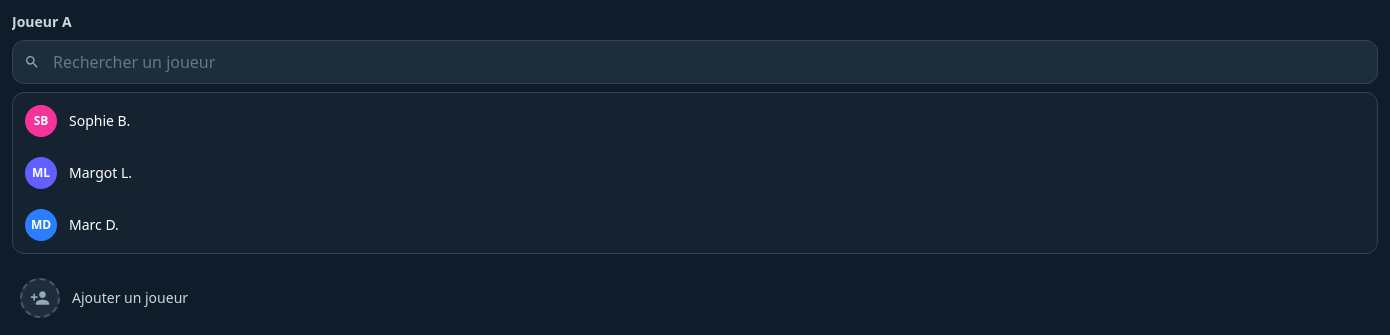
Test: PlayerPicker › ordering › keeps the recency order while searching
Step 1. Type "mar" into the field named "Rechercher Joueur A" → (695, 62), box [12, 40, 1378, 84]
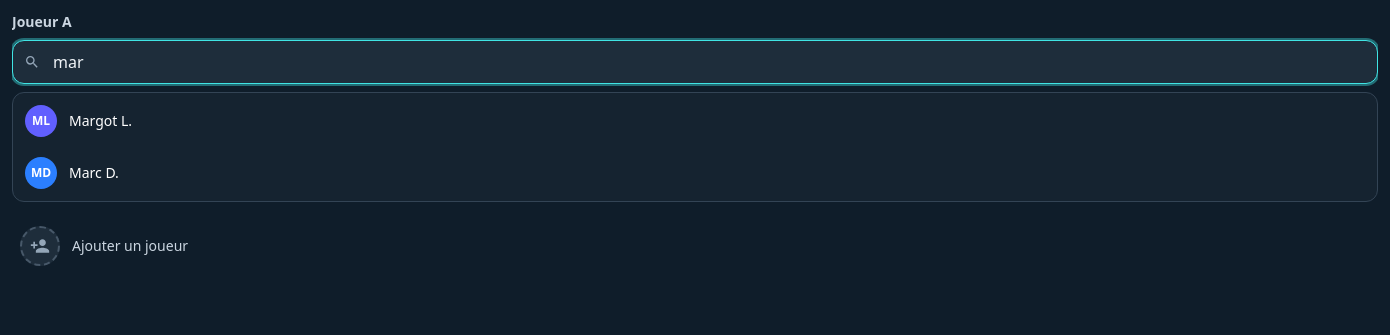
Now the number of options is 2, box [17, 97, 1373, 145]; [17, 149, 1373, 197]
